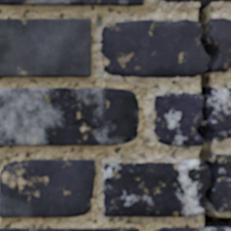brick: (0, 88, 137, 144), (0, 160, 94, 216), (0, 19, 90, 76), (0, 0, 143, 4), (158, 228, 230, 230), (0, 229, 137, 230)
broken_brick: (99, 18, 208, 78), (103, 159, 209, 217), (153, 92, 202, 146), (211, 86, 230, 141), (213, 153, 230, 212), (212, 17, 230, 72), (158, 0, 230, 3)
crack: (196, 2, 230, 228)
